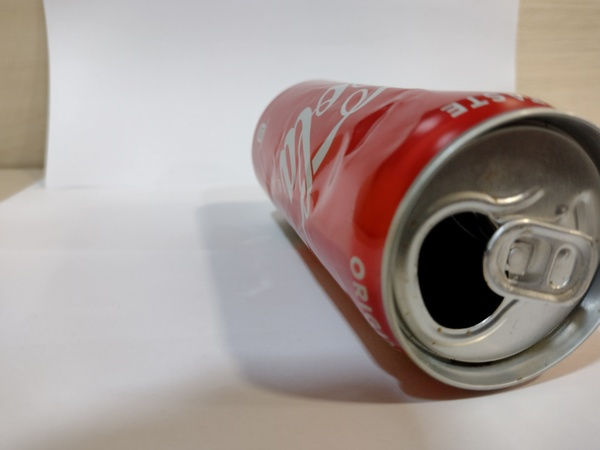can: (248, 70, 596, 395)
